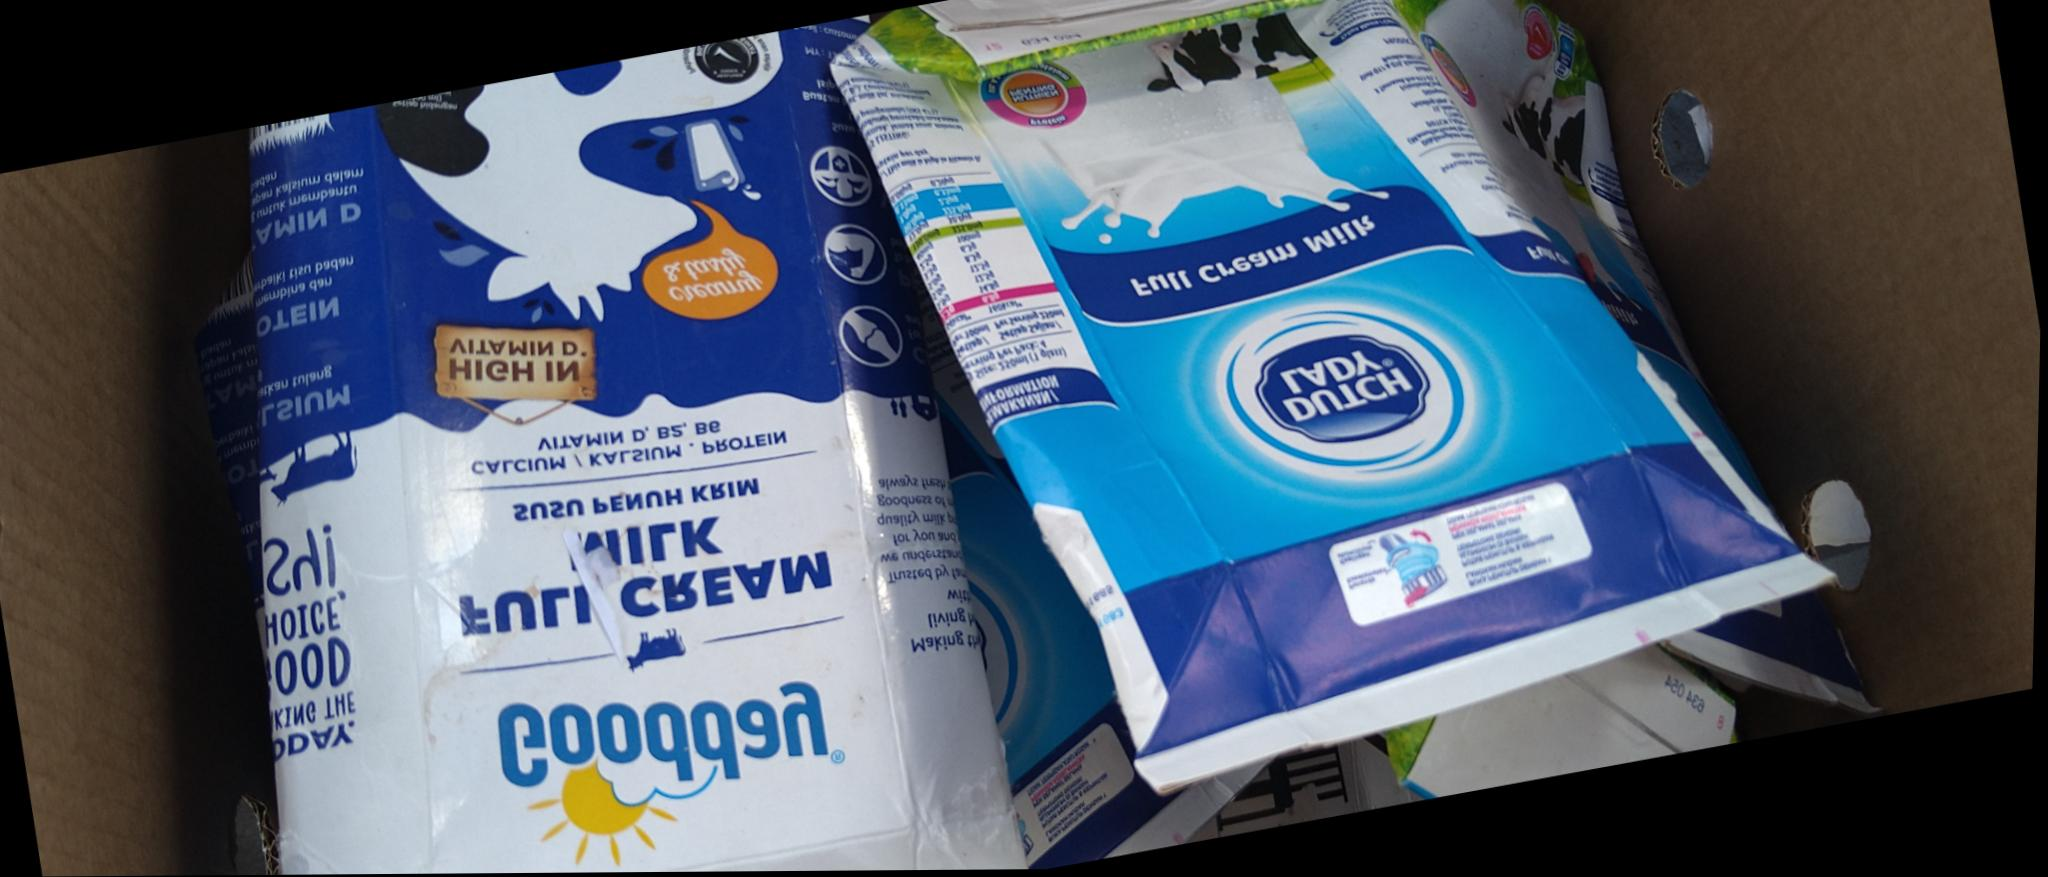cardboard: (835, 0, 1846, 850), (199, 25, 1152, 867)
